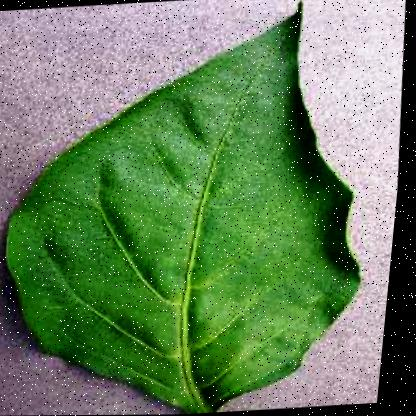Healthy: (0, 0, 396, 415)
